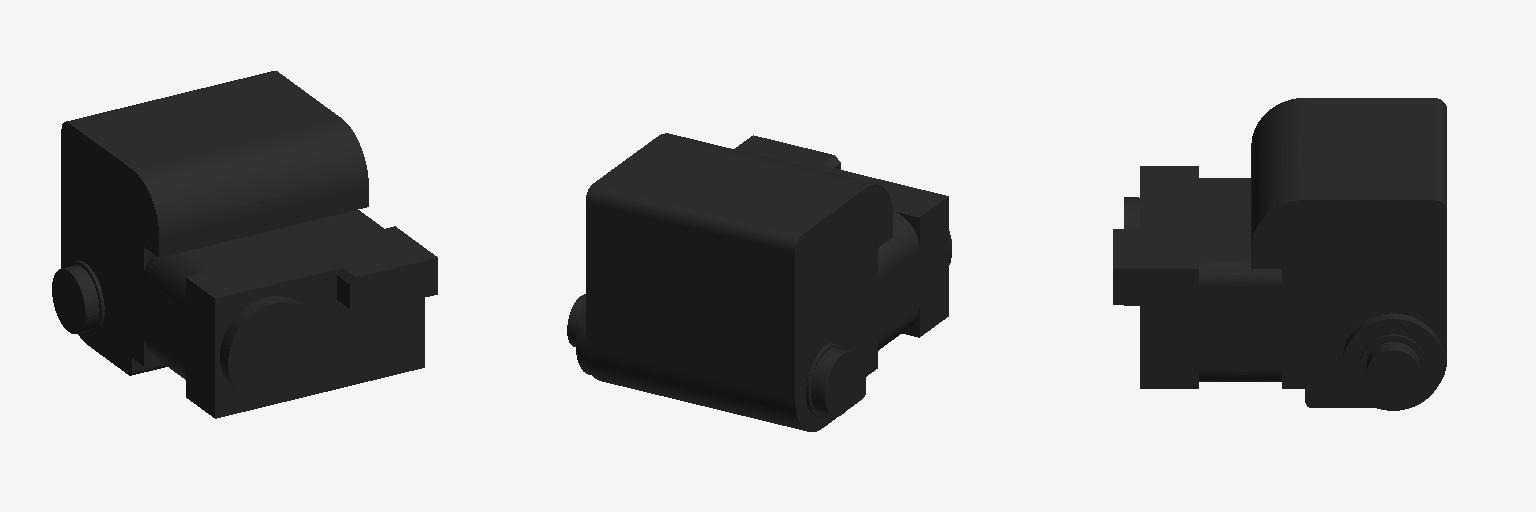
Rendered from link_12.0_right.obj.
3 renders of one model, left to right at view 1: azimuth 30°, elevation 25°; view 2: azimuth 150°, elevation 25°; view 3: azimuth 270°, elevation 25°, orthographic.
Visible parts, largest first — view 1: link_12.0_right; view 2: link_12.0_right; view 3: link_12.0_right.
Part boxes in pixels (x1,y1,x2,y2): link_12.0_right: (52,71,437,418); link_12.0_right: (567,133,951,431); link_12.0_right: (1113,98,1446,410).
Bounding box in the file's own units: 0.0447 × 0.034 × 0.0495.